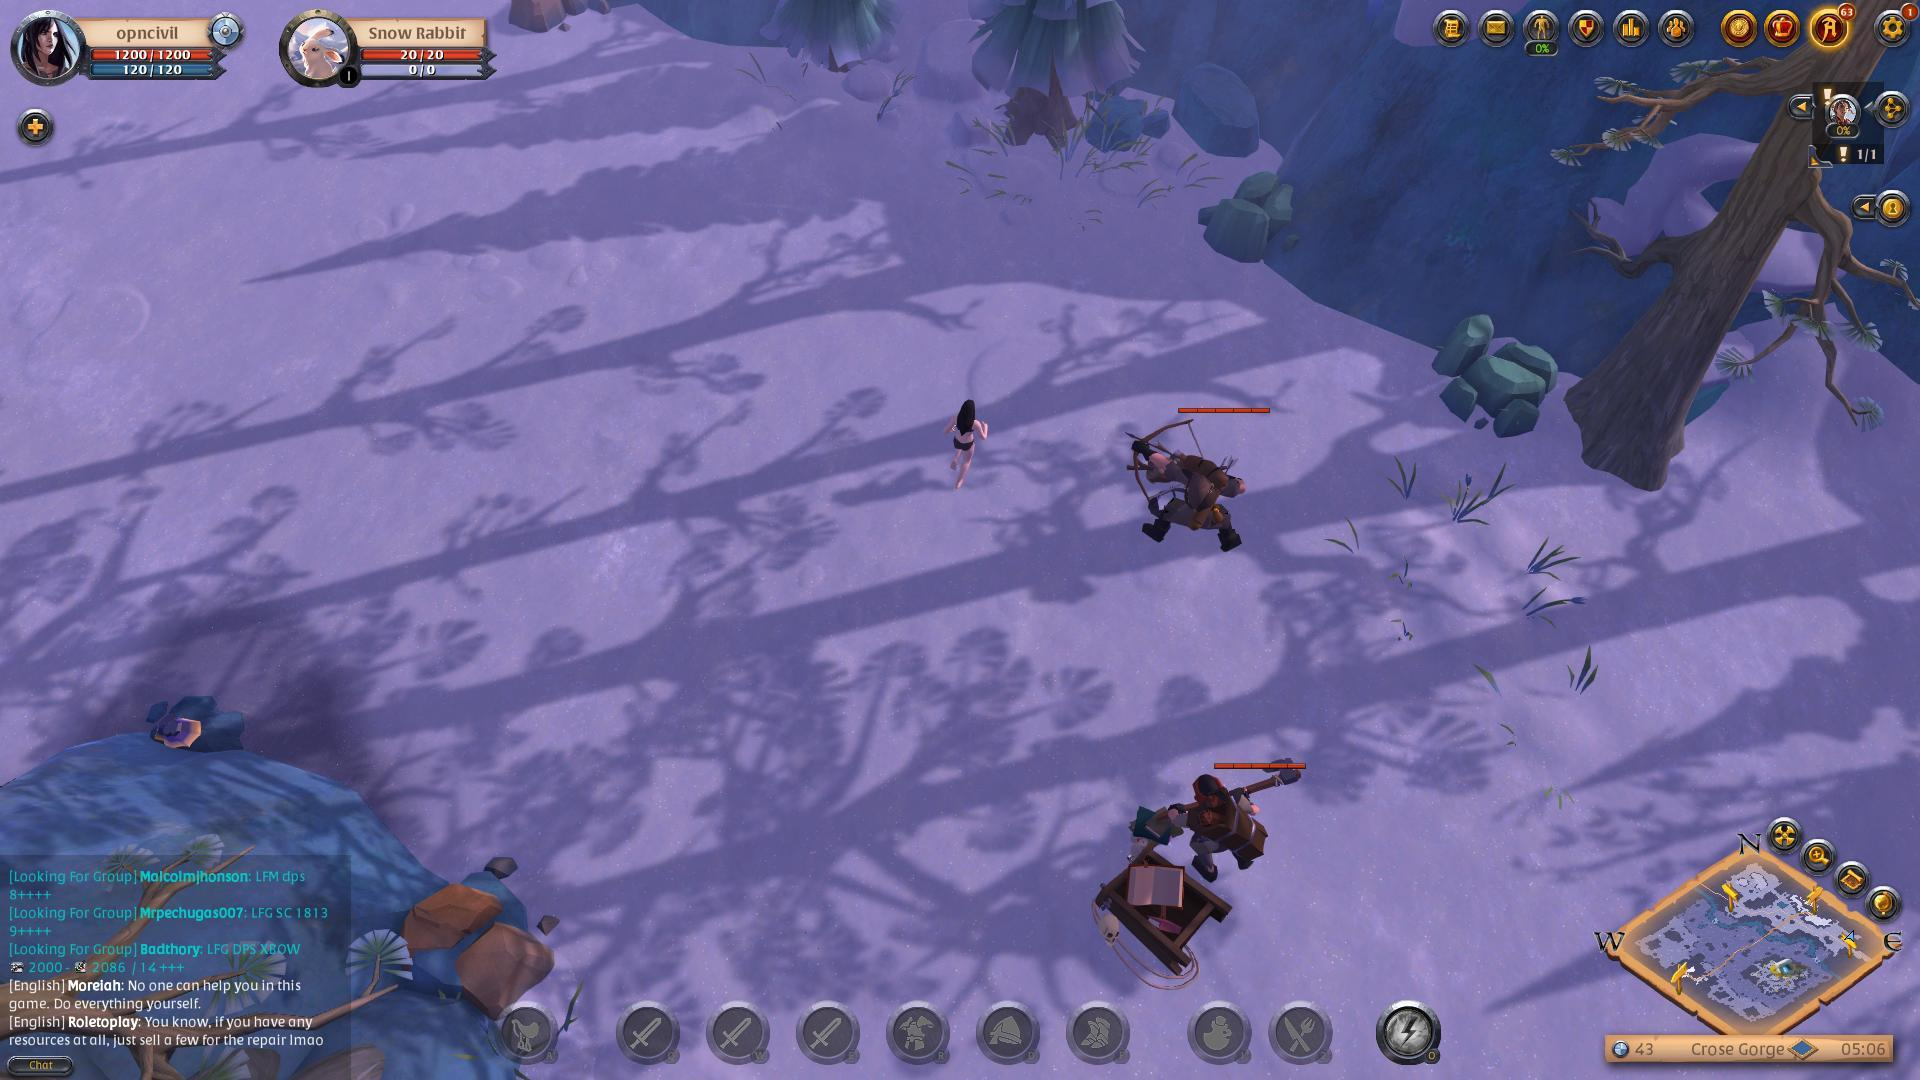cotton: (144, 686, 247, 777)
mob: (1120, 392, 1279, 566), (1146, 735, 1311, 886)
sandstone: (1432, 310, 1567, 447), (1204, 175, 1307, 272)
